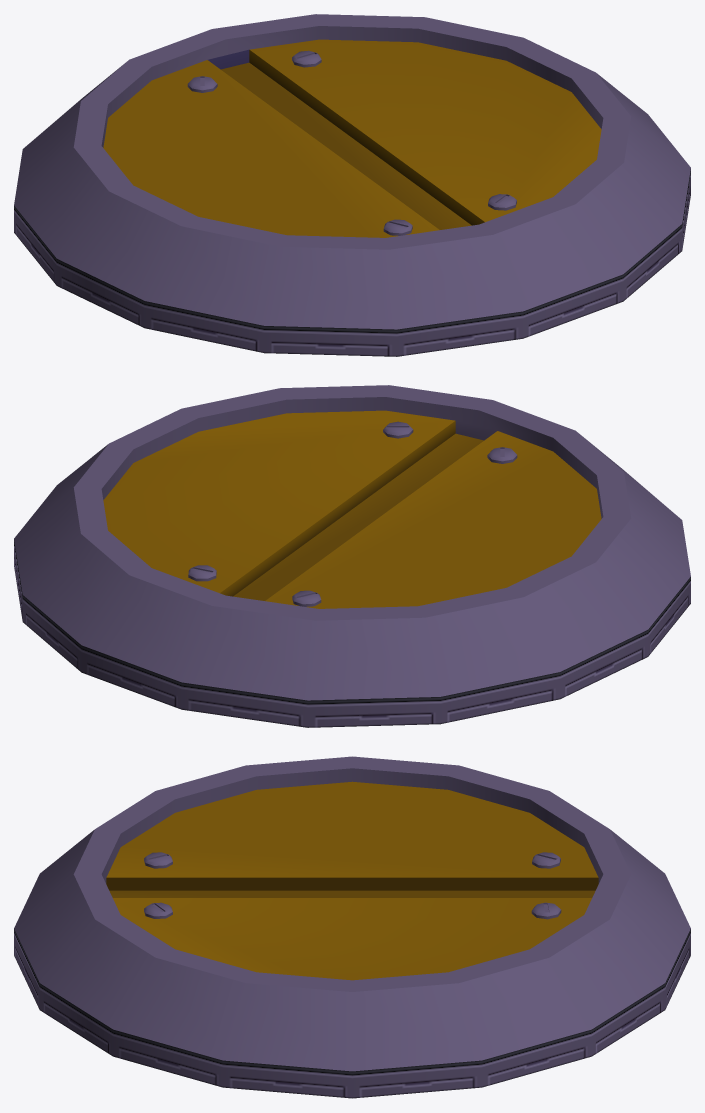
3 renders of one model, top to bottom at view 1: azimuth 30°, elevation 25°; view 2: azimuth 150°, elevation 25°; view 3: azimuth 270°, elevation 25°, orthographic.
Parts seen in each view (by area): view 1: Joint_0_Object_0, Joint_0_Object_1; view 2: Joint_0_Object_0, Joint_0_Object_1; view 3: Joint_0_Object_0, Joint_0_Object_1.
Boxes of the visible parts, x1,y1,x2,y2 form: Joint_0_Object_0: [14, 14, 690, 356]; Joint_0_Object_1: [103, 39, 601, 237]; Joint_0_Object_0: [14, 385, 690, 727]; Joint_0_Object_1: [103, 410, 601, 608]; Joint_0_Object_0: [14, 756, 690, 1098]; Joint_0_Object_1: [106, 781, 598, 980].
Size of the model in its own units: 1134 by 150 by 1134.
Materials: 2 (2 with a texture image).
